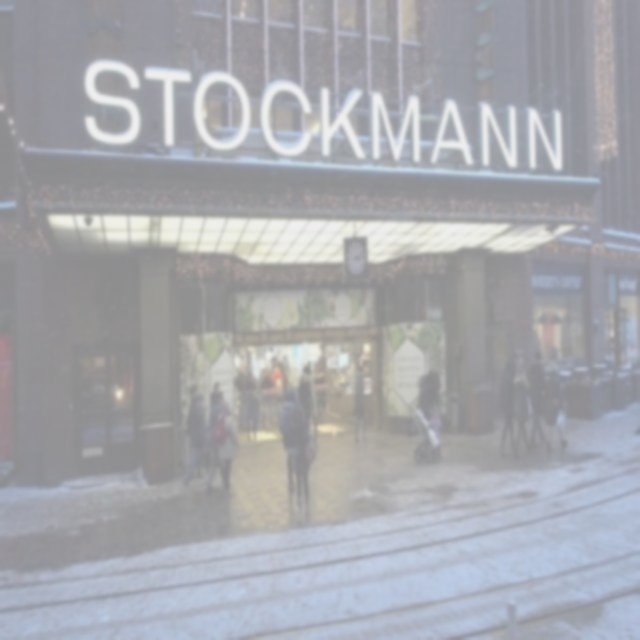pessoa: (180, 382, 214, 490), (288, 402, 312, 526), (214, 397, 242, 499), (205, 394, 232, 494), (524, 346, 549, 454), (413, 368, 440, 464), (544, 357, 570, 455), (278, 386, 298, 494), (497, 356, 518, 456), (512, 364, 532, 460), (242, 370, 262, 446), (352, 364, 369, 446), (188, 392, 204, 479), (306, 360, 320, 450), (297, 364, 315, 428), (260, 361, 274, 436), (270, 360, 285, 428), (235, 358, 248, 433), (316, 354, 328, 418), (430, 402, 443, 460), (427, 363, 442, 413), (210, 380, 226, 412), (362, 358, 371, 376)
